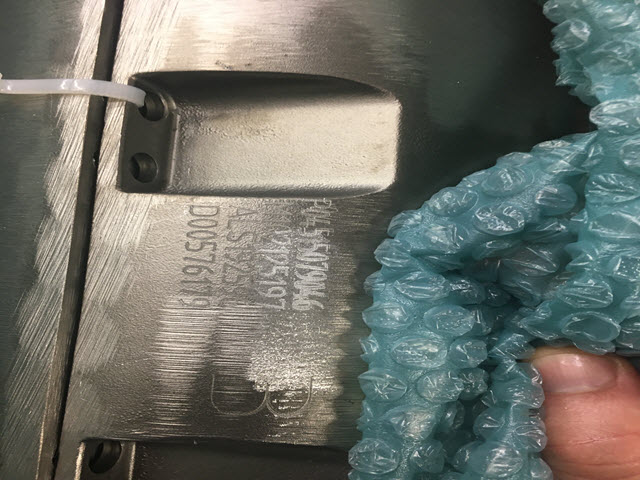character: (187, 201, 224, 220), (181, 237, 219, 255), (256, 264, 291, 282), (174, 293, 211, 310), (179, 262, 215, 277), (183, 250, 218, 264), (175, 284, 215, 296), (257, 297, 287, 313), (185, 227, 219, 241), (257, 287, 290, 299), (184, 218, 222, 228), (176, 275, 214, 284), (254, 277, 291, 286)
